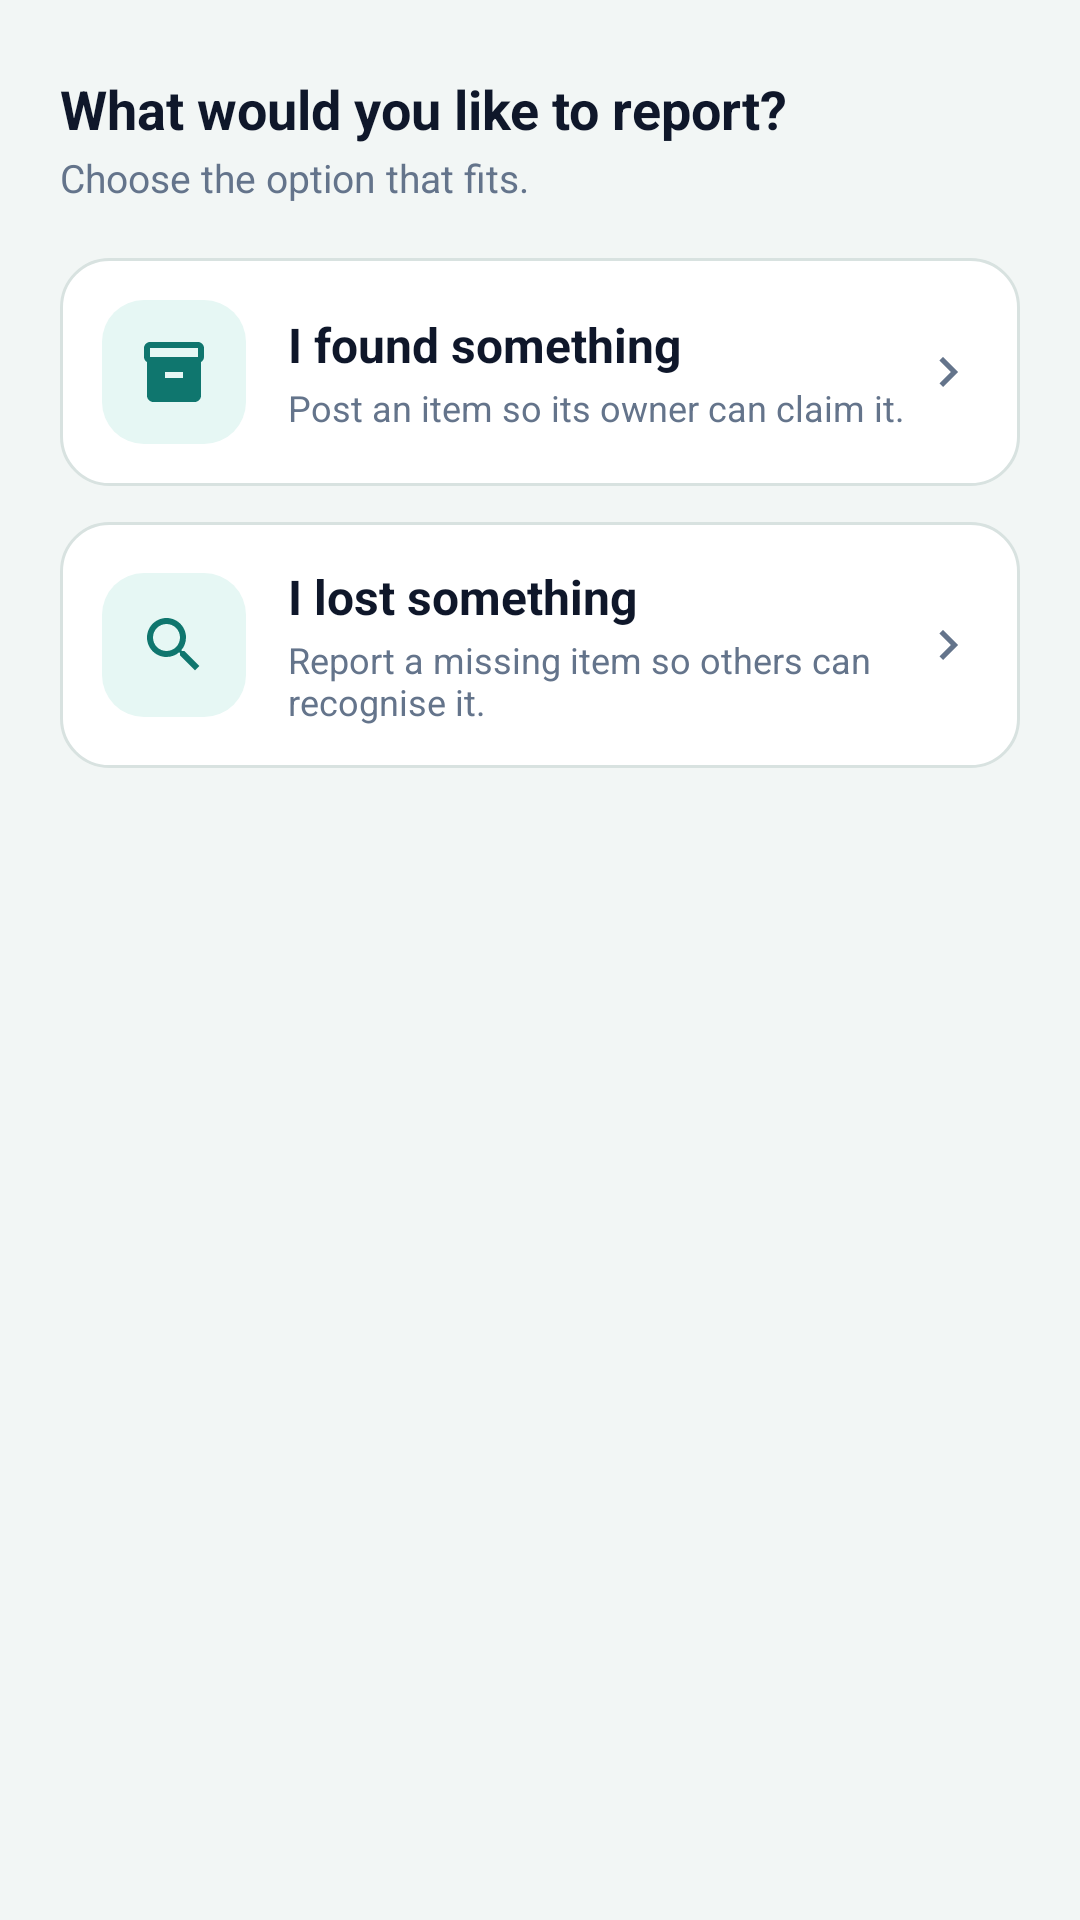

Icons on this 1080 × 1920 Android screen, each with the point to tap as [x,y]:
chevron right: [948,372], [948,645]
inventory: [174,372]
search: [174,645]
